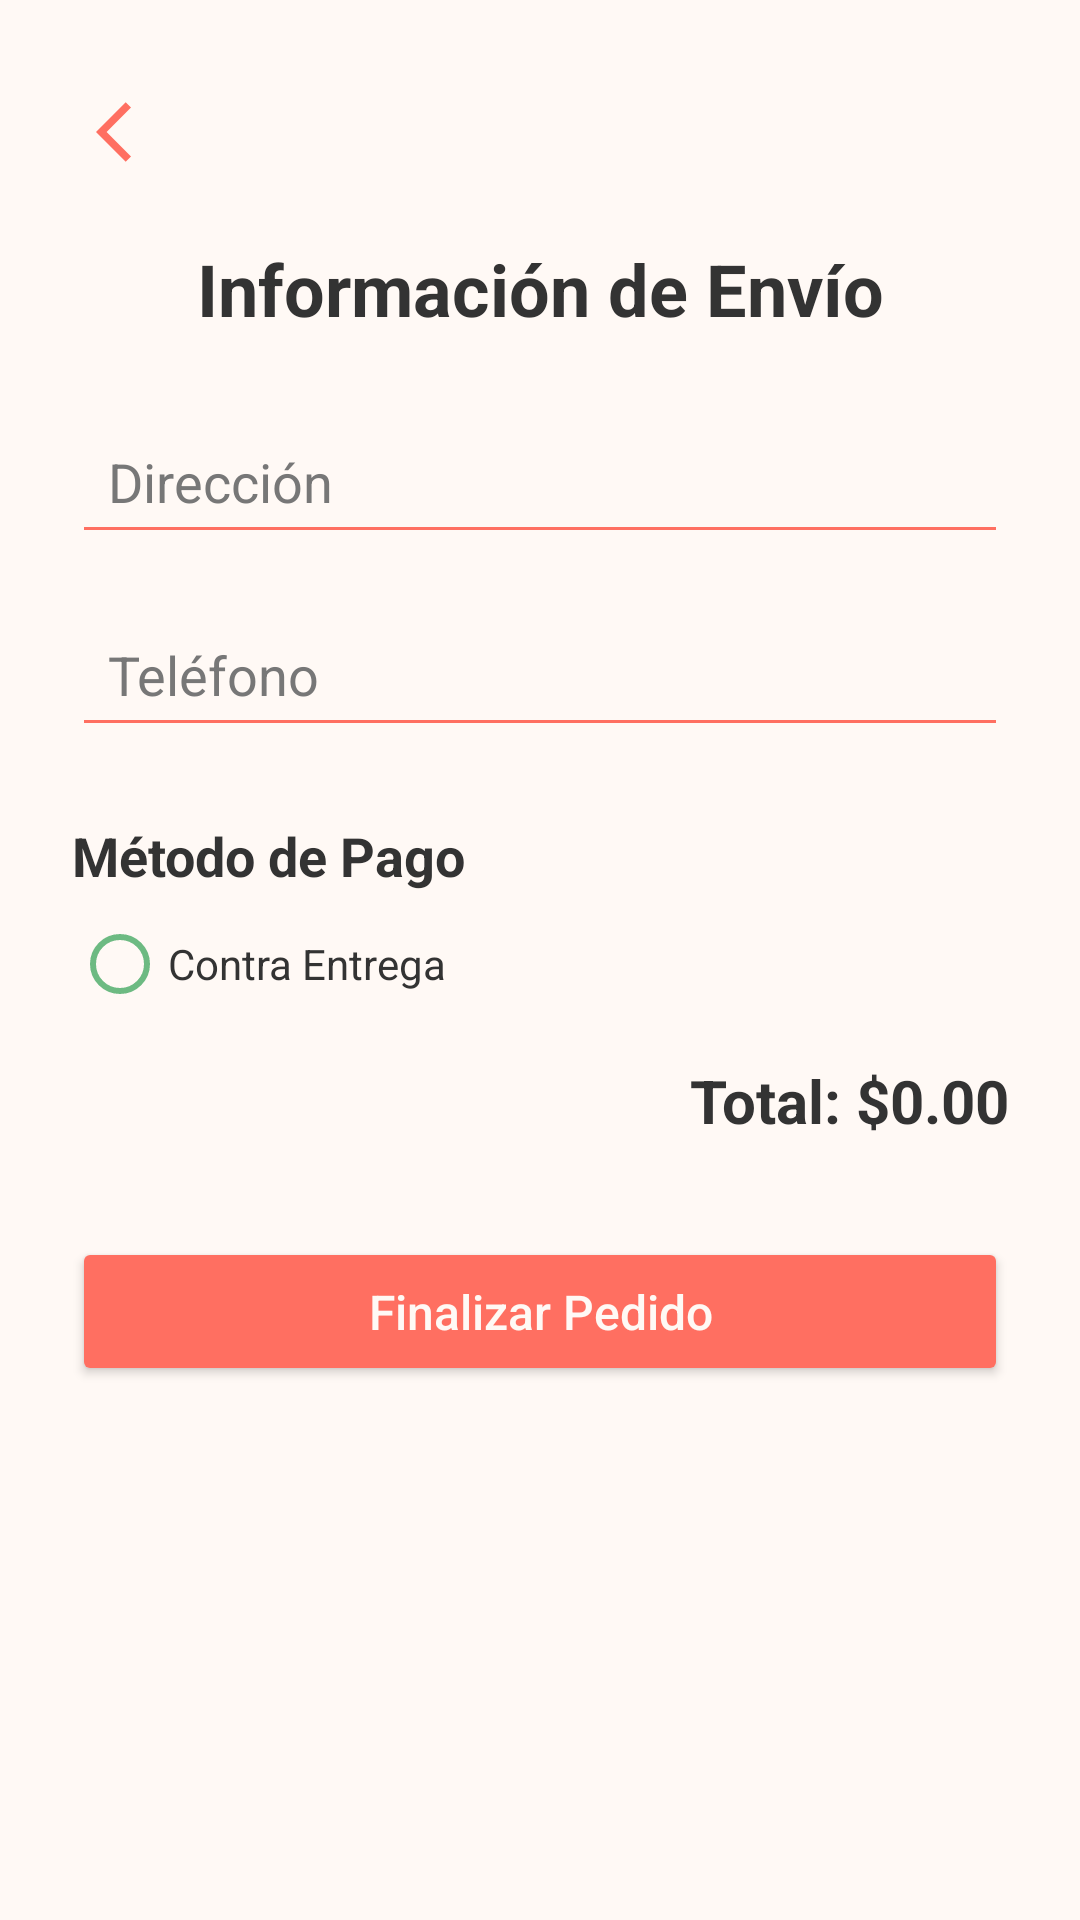

Icon click points for this 1080x1920 phone screenshot, format (x=x, y=y):
Botón atrás: (x=113, y=132)
